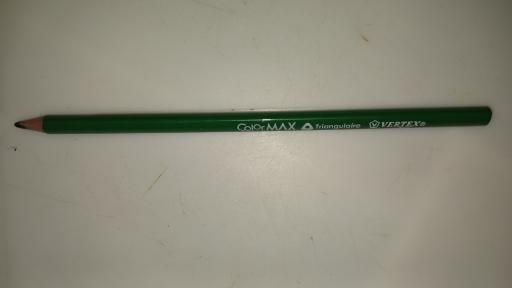Pencil: (14, 111, 496, 133)
